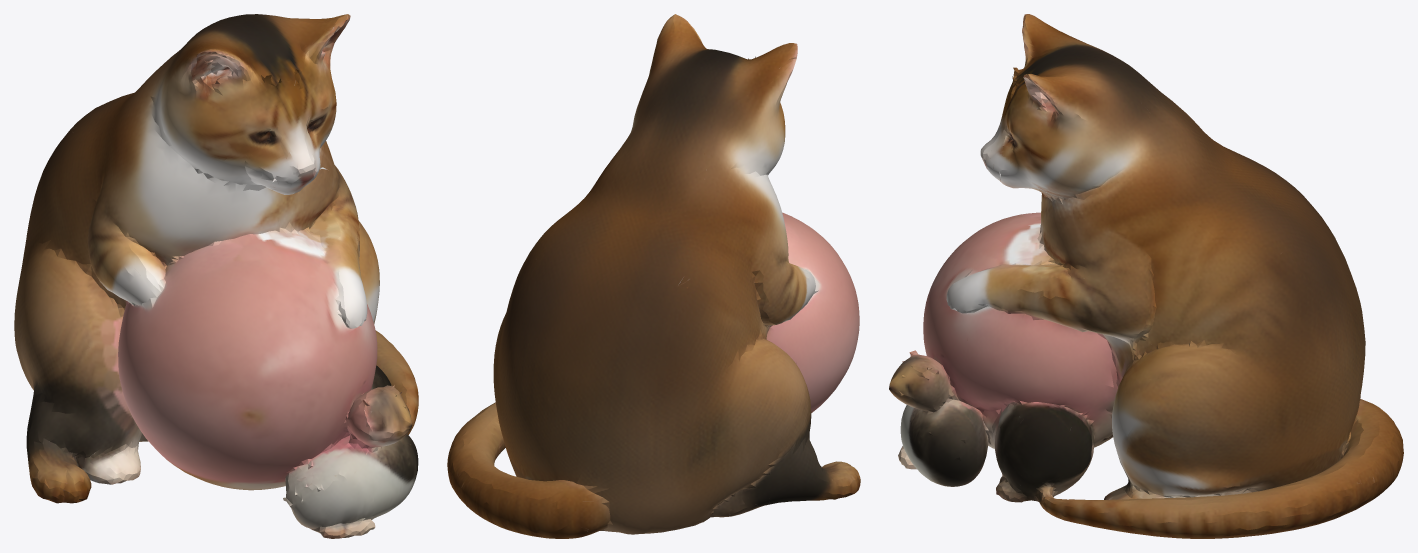
Rendered from pregnant_cat.glb.
3 renders of one model, left to right at view 1: azimuth 30°, elevation 25°; view 2: azimuth 150°, elevation 25°; view 3: azimuth 270°, elevation 25°, orthographic. The views are drawn at different scales.
Visible parts, largest first — view 1: model; view 2: model; view 3: model.
Part boxes in pixels (left/top/right/bottom): model: left=14, top=14, right=418, bottom=538; model: left=447, top=14, right=860, bottom=538; model: left=889, top=14, right=1403, bottom=538.
Bounding box in the file's own units: 1.51 × 1.68 × 1.89.
Materials: 1 (1 with a texture image).
